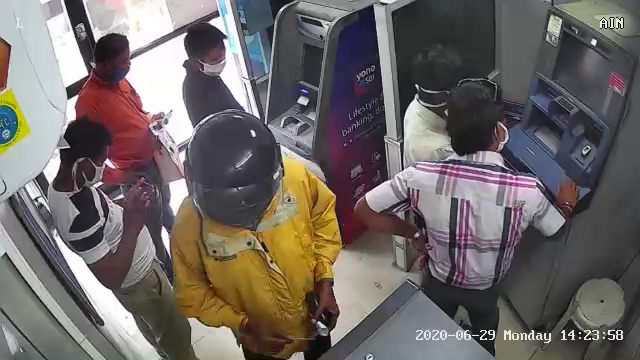helmet: (180, 108, 294, 226)
